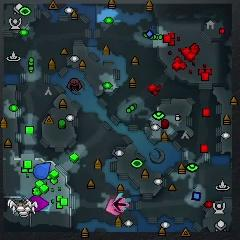p1: (33, 162, 51, 179)
p3: (28, 195, 49, 211)
x1: (106, 199, 118, 216)
x1Clone: (114, 197, 128, 212)
x3: (115, 193, 132, 210)
